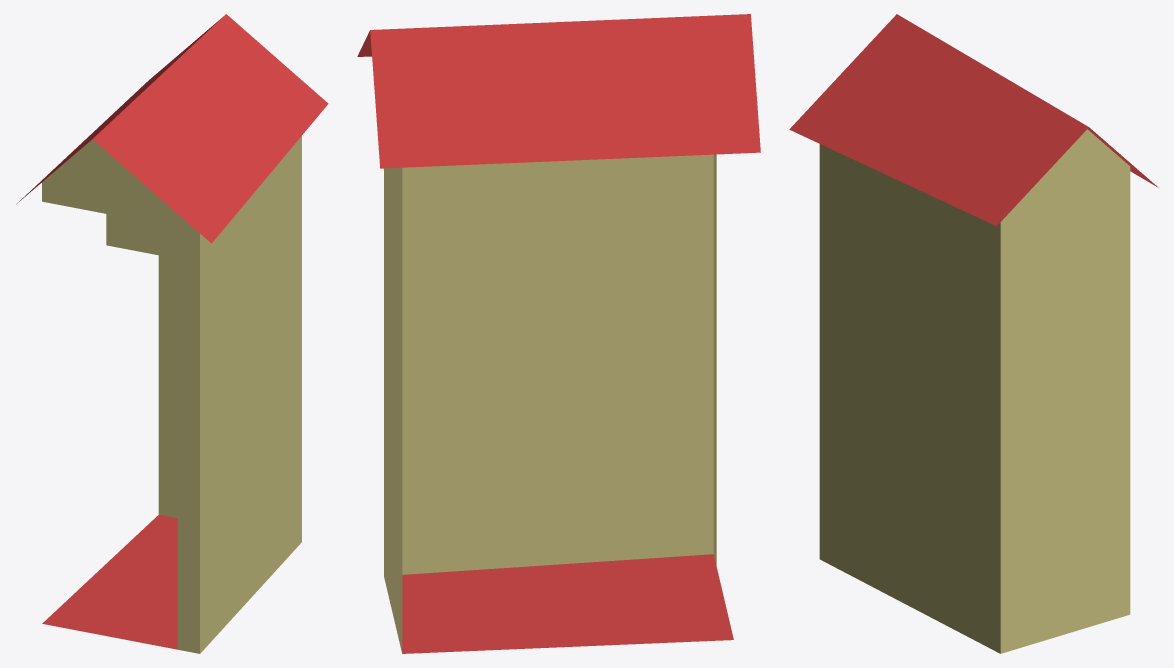
3 renders of one model, left to right at view 1: azimuth 30°, elevation 25°; view 2: azimuth 150°, elevation 25°; view 3: azimuth 270°, elevation 25°, orthographic. The views are drawn at different scales.
Bounding box in the file's own units: 9.07 × 8.74 × 13.29.
